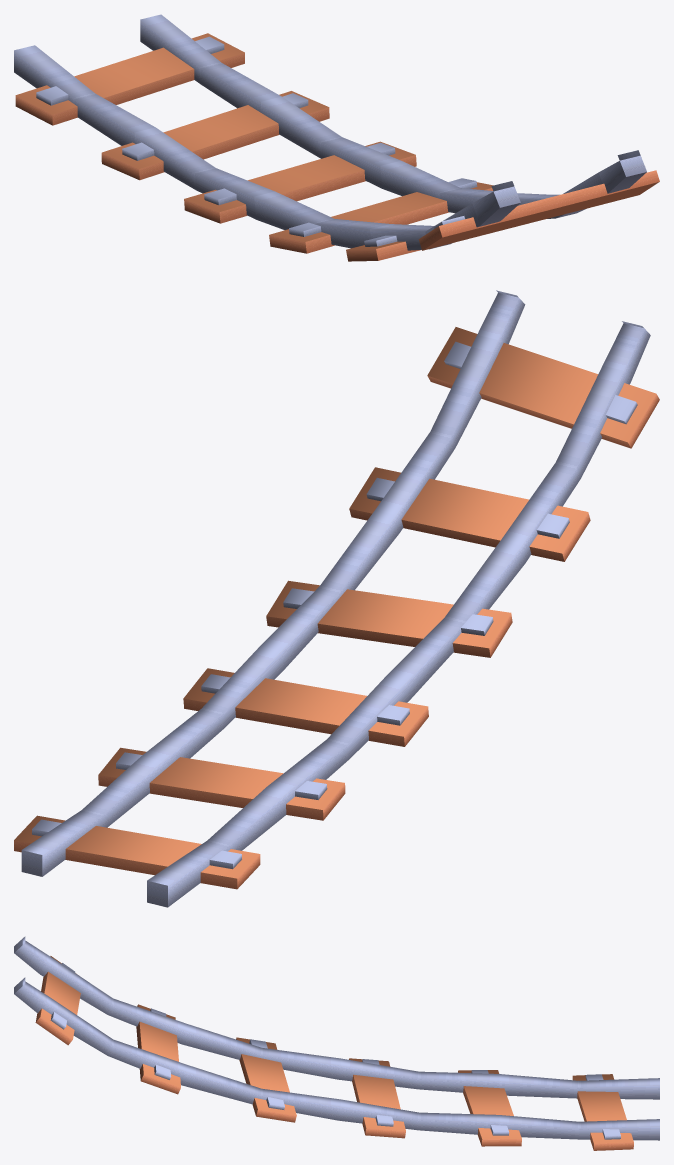
The model's file is railroad-damaged-straight-hill-beginning.glb.
3 renders of one model, top to bottom at view 1: azimuth 30°, elevation 25°; view 2: azimuth 150°, elevation 25°; view 3: azimuth 270°, elevation 25°, orthographic. The views are drawn at different scales.
Parts seen in each view (by area): view 1: railroad-damaged-straight-hill-beginning; view 2: railroad-damaged-straight-hill-beginning; view 3: railroad-damaged-straight-hill-beginning.
Part boxes in pixels (x1,y1,x2,y2): railroad-damaged-straight-hill-beginning: (14,14,659,261); railroad-damaged-straight-hill-beginning: (14,290,659,907); railroad-damaged-straight-hill-beginning: (14,936,659,1150).
Size of the model in its own units: 1.03 by 1.07 by 4.
Materials: 1 (1 with a texture image).
